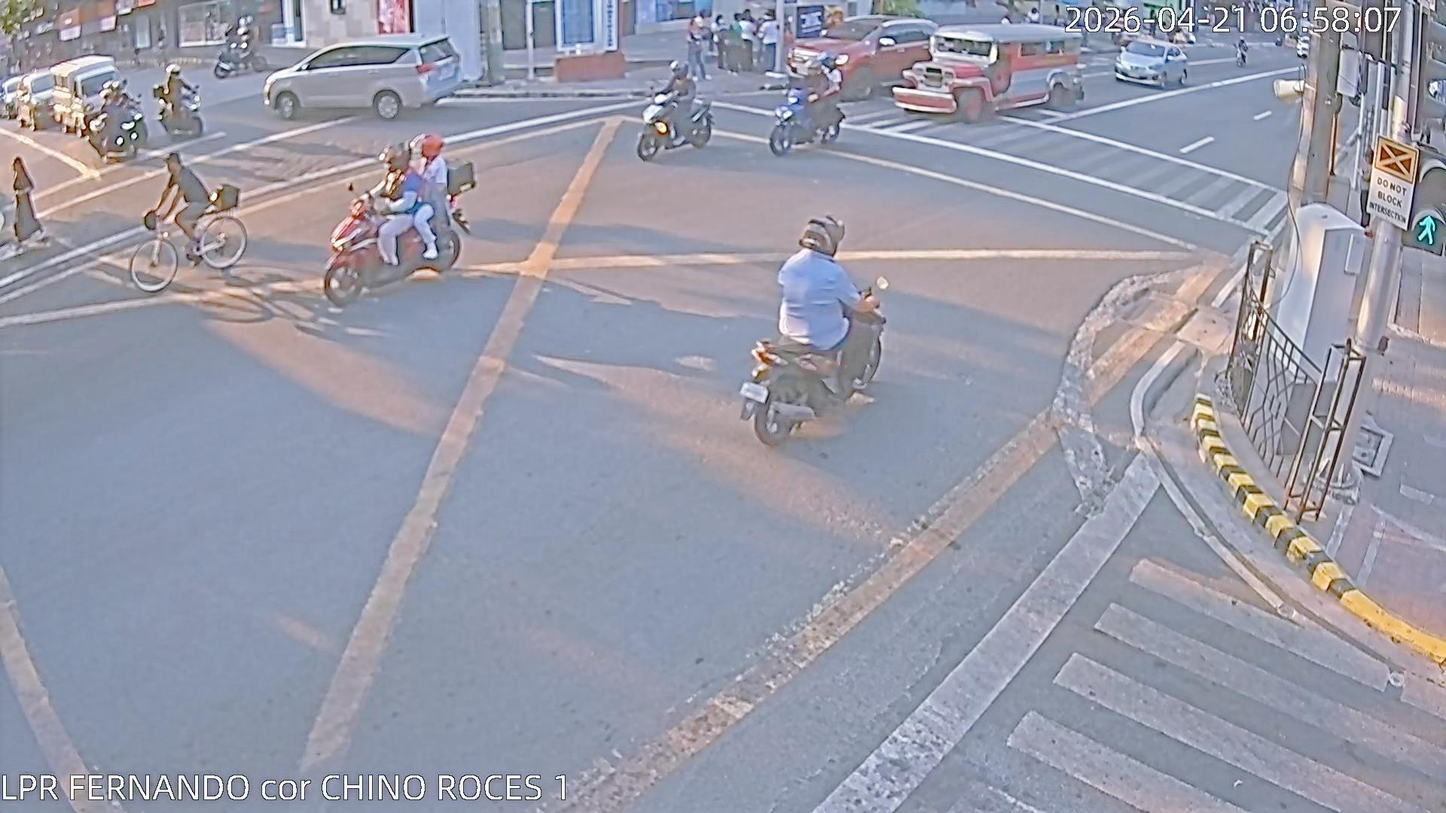Car: (264, 32, 469, 117), (794, 15, 932, 103), (49, 58, 130, 134), (1114, 40, 1188, 89), (12, 70, 58, 129)
Motor: (739, 274, 886, 446), (323, 163, 473, 305), (635, 78, 710, 161), (768, 74, 842, 157), (95, 86, 144, 158), (154, 79, 204, 139), (213, 38, 268, 79), (1235, 38, 1249, 67)
